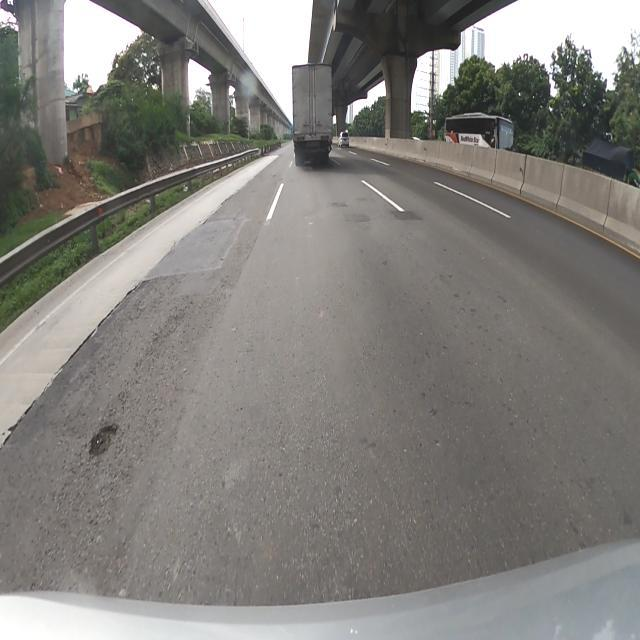Buraco: (85, 421, 123, 458)
